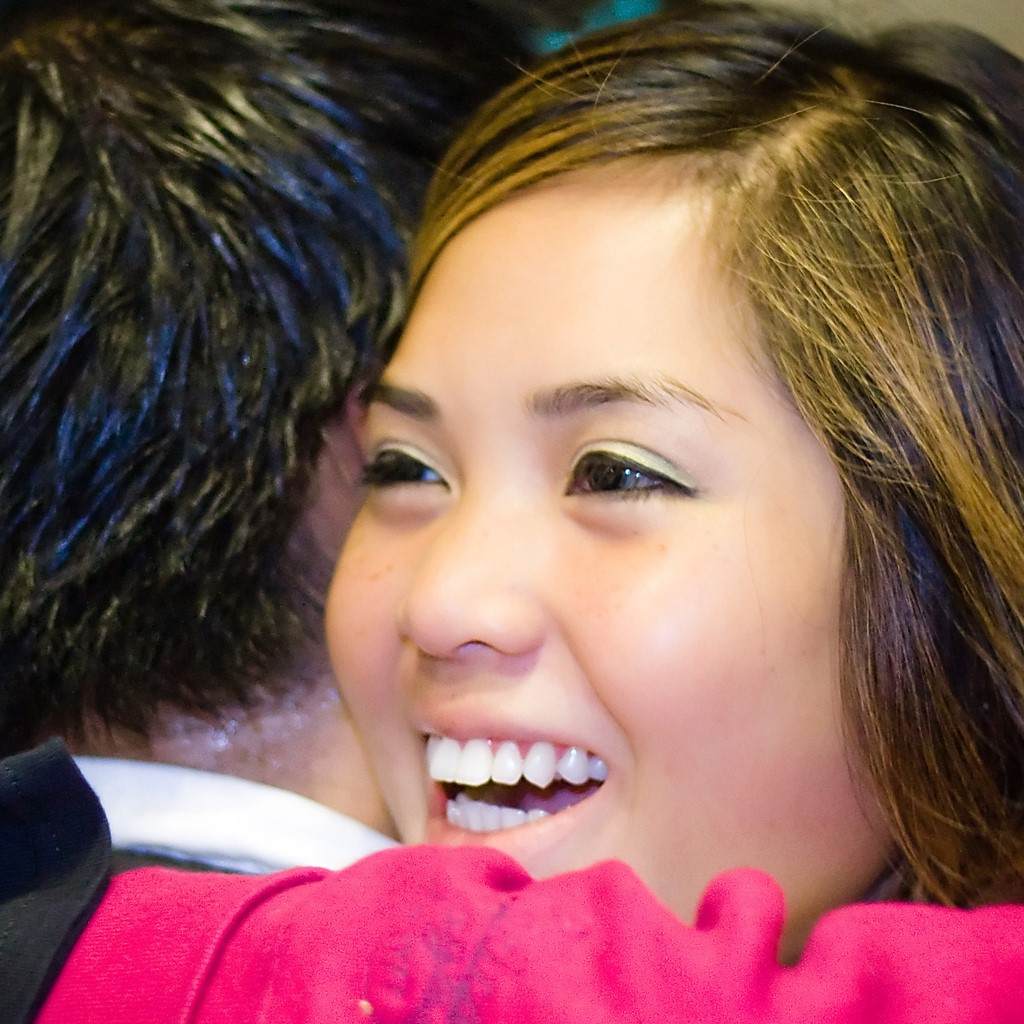sin_mascara: (321, 154, 898, 963)
